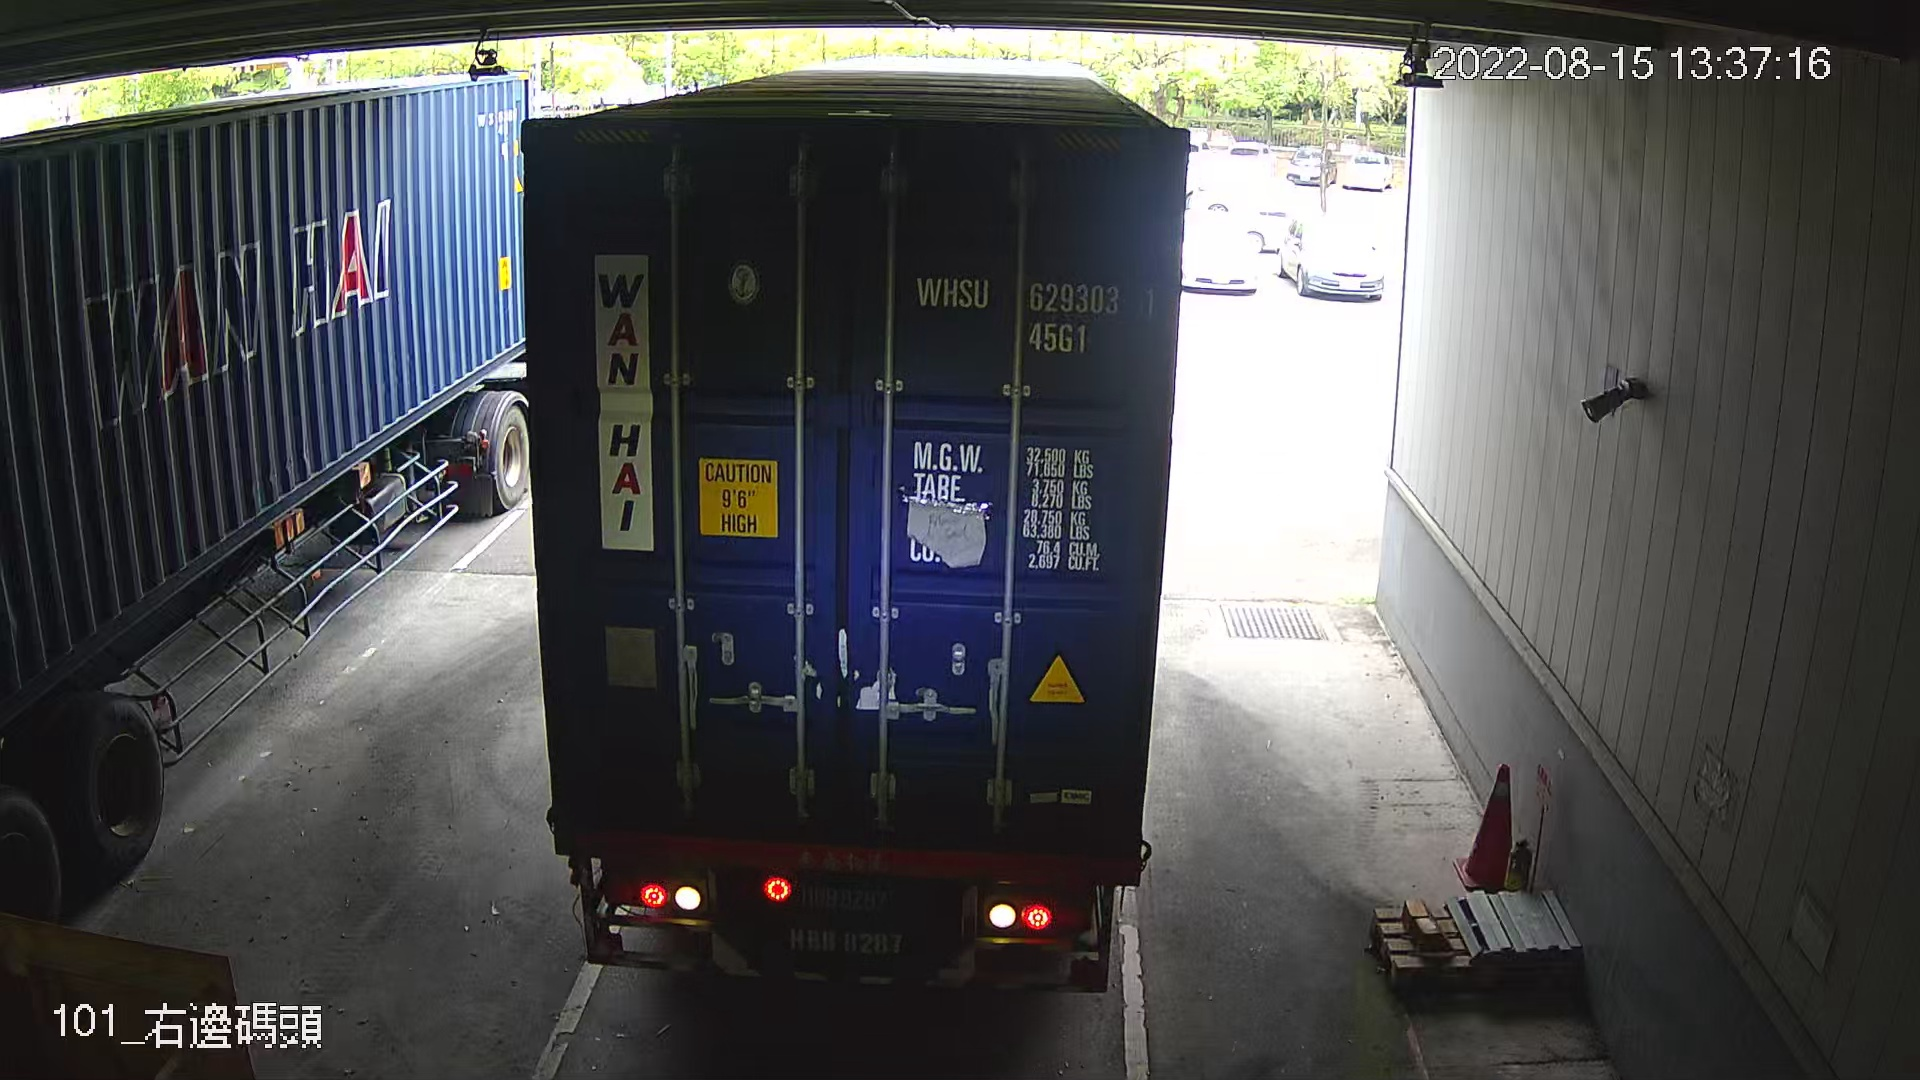container: (907, 262, 1167, 363)
